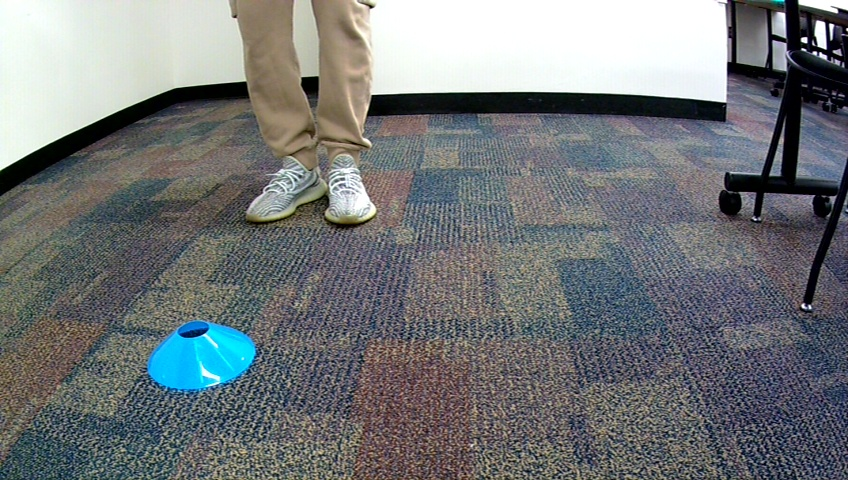cone: (145, 320, 257, 391)
